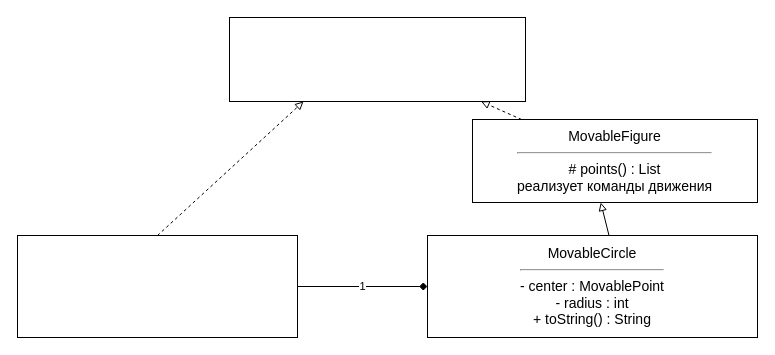
This 775x355 diagram has some shape labels left out. Here are the shapes that lost their labels. From the top down, the box of each, then its label:
(228, 16, 526, 102): «interface» Movable + moveUp(), + moveDown() + moveLeft(), + moveRight()
(16, 234, 298, 338): MovablePoint - x, y : int - stepX, stepY : int + toString() : String
